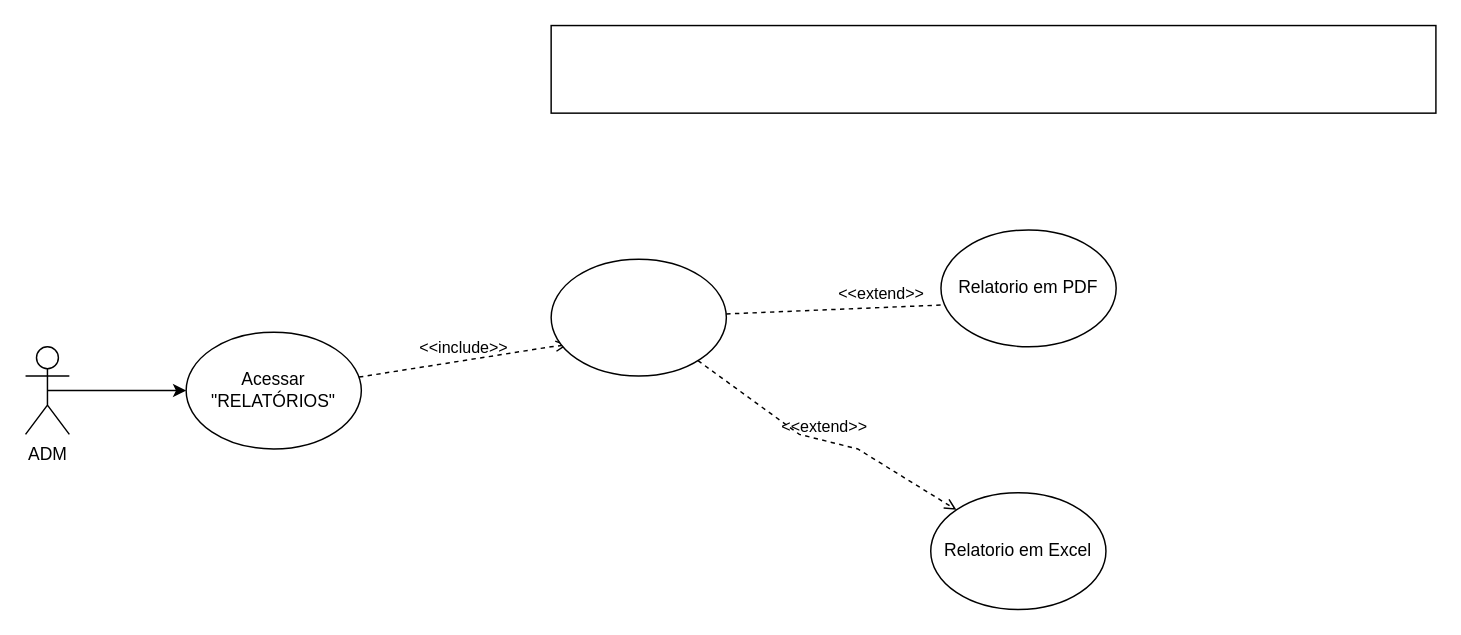
The diagram is 1461 pixels wide and 635 high, and some of its shapes have lost their labels. The box of each missing label's shape, as (x1, y1, x2, y2) in pixels:
CASO DE USO 8: (550, 24, 1436, 113)
Definir filtros: (550, 258, 726, 376)
